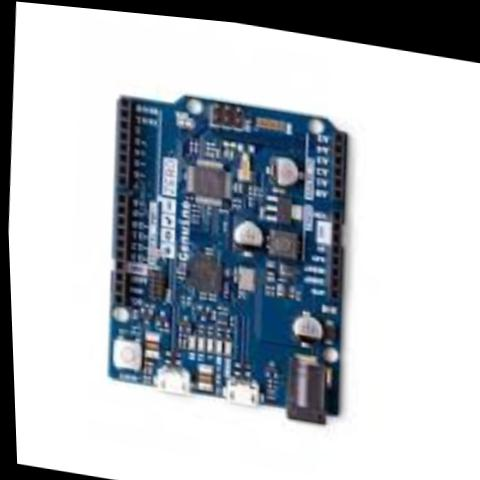Arduino-Zero: (61, 62, 378, 430)
